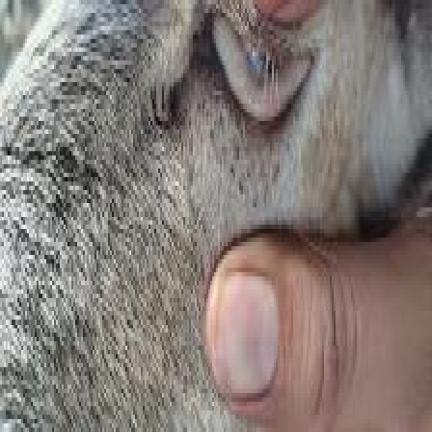goat-eye-anemia-22222222: (212, 13, 310, 117)
